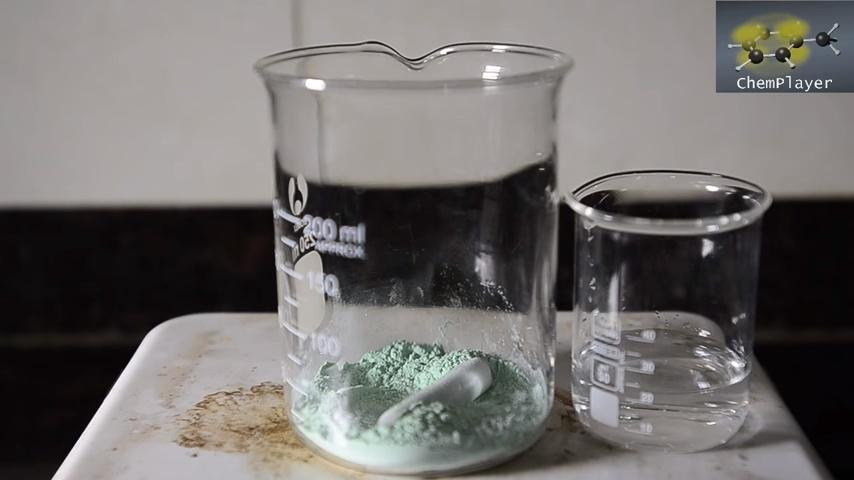Beaker: (248, 48, 562, 472), (565, 170, 773, 452)
